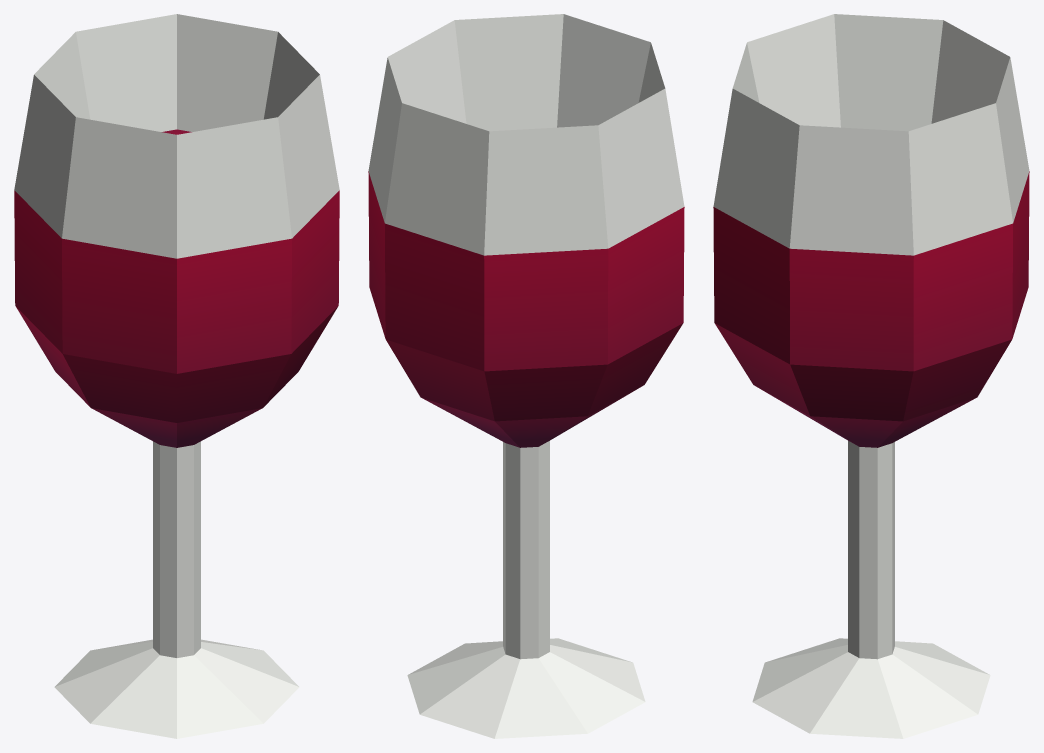
Rendered from wineGlass.FBX.
The picture shows the model from 3 angles, left to right: view 1: azimuth 30°, elevation 25°; view 2: azimuth 150°, elevation 25°; view 3: azimuth 270°, elevation 25°; orthographic projection.
Parts seen in each view (by area): view 1: wineGlass; view 2: wineGlass; view 3: wineGlass.
Boxes of the visible parts, box(x1,y1,x2,y2) form: wineGlass: box(14, 14, 339, 738); wineGlass: box(368, 14, 684, 738); wineGlass: box(713, 14, 1029, 738).
Bounding box in the file's own units: 1.94 × 4.17 × 1.94.
